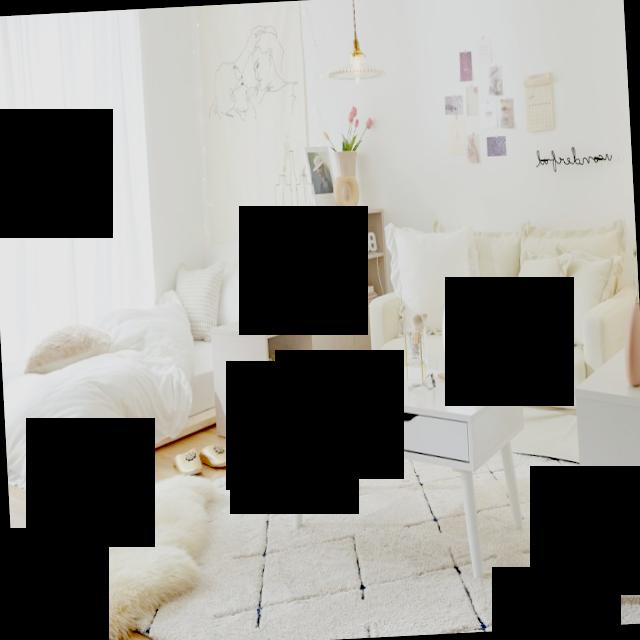white desk: (269, 361, 526, 569)
white sofa: (0, 278, 238, 542), (380, 216, 635, 453)
